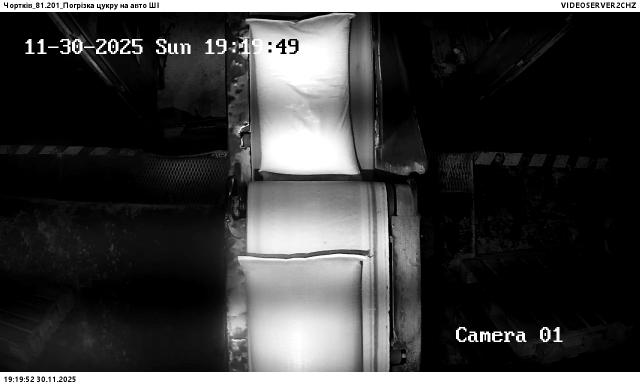bag: (246, 14, 364, 180), (238, 254, 368, 371)
